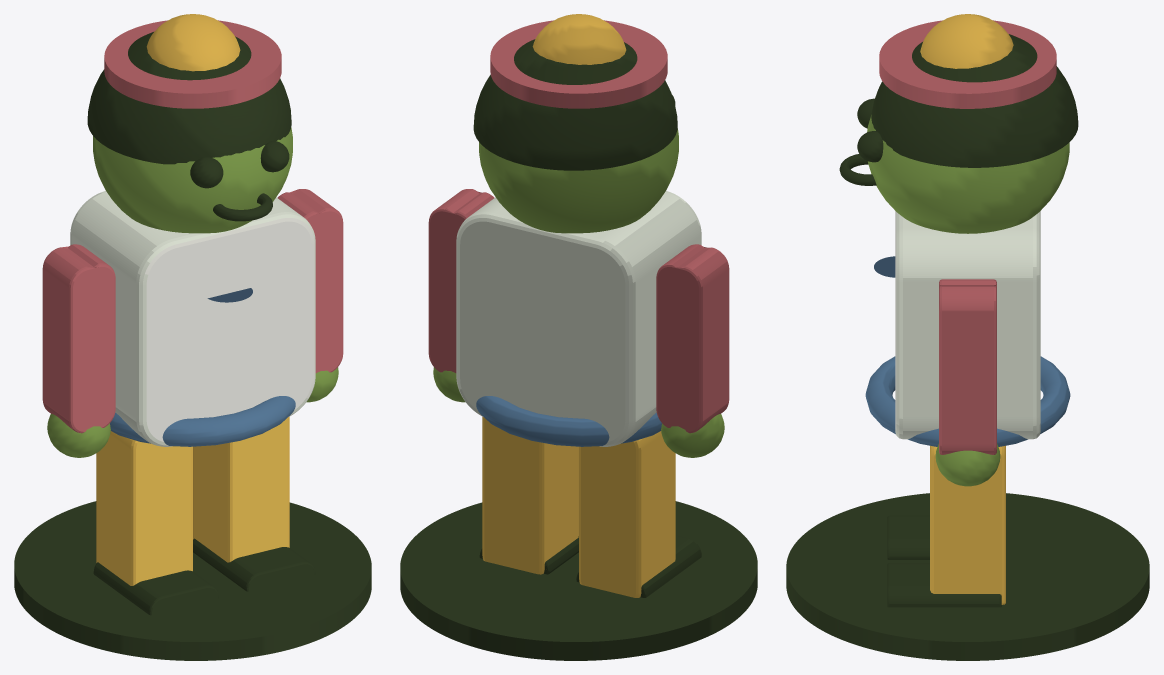
File: 0768_天气与气候图鉴_百叶箱.glb
3 views of the same model, side by side, from view 1: azimuth 30°, elevation 25°; view 2: azimuth 150°, elevation 25°; view 3: azimuth 270°, elevation 25° (orthographic).
Visible parts, largest first — view 1: card_0768; view 2: card_0768; view 3: card_0768.
Boxes of the visible parts, x1,y1,x2,y2 form: card_0768: (14,14,371,660); card_0768: (400,14,757,660); card_0768: (786,14,1149,660).
Size of the model in its own units: 0.5701 by 1 by 0.581.
